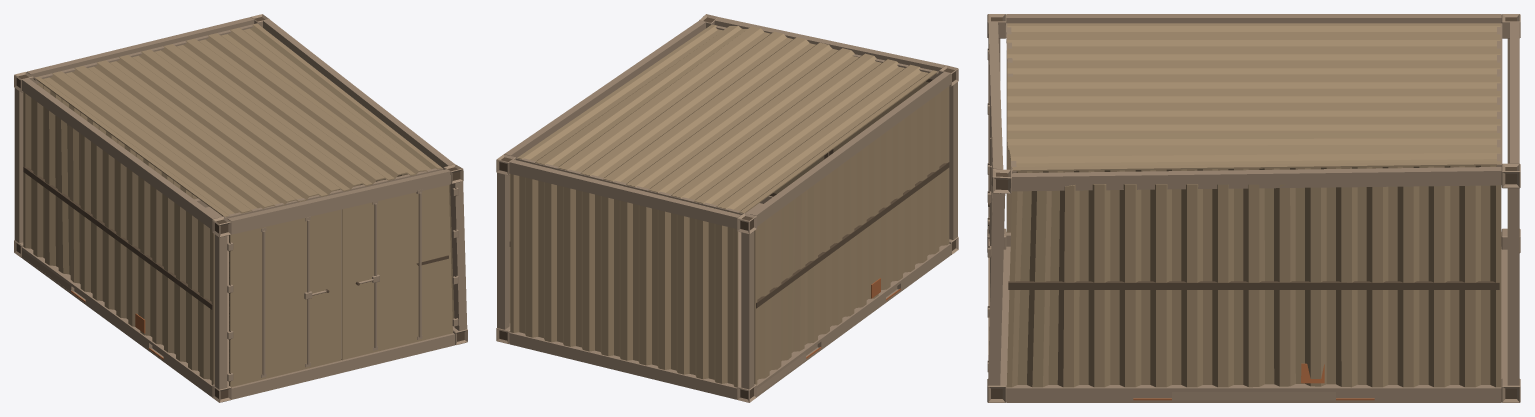
Rendered from cargo_container_dented_sand.glb.
3 renders of one model, left to right at view 1: azimuth 30°, elevation 25°; view 2: azimuth 150°, elevation 25°; view 3: azimuth 270°, elevation 25°, orthographic. The views are drawn at different scales.
Visible parts, largest first — view 1: Container_Dented_Body; view 2: Container_Dented_Body; view 3: Container_Dented_Body.
Part boxes in pixels (box(x1,y1,x2,y2)): Container_Dented_Body: box(14, 14, 467, 402); Container_Dented_Body: box(496, 14, 958, 402); Container_Dented_Body: box(987, 14, 1520, 402).
Bounding box in the file's own units: 3.5 × 2.4 × 5.
